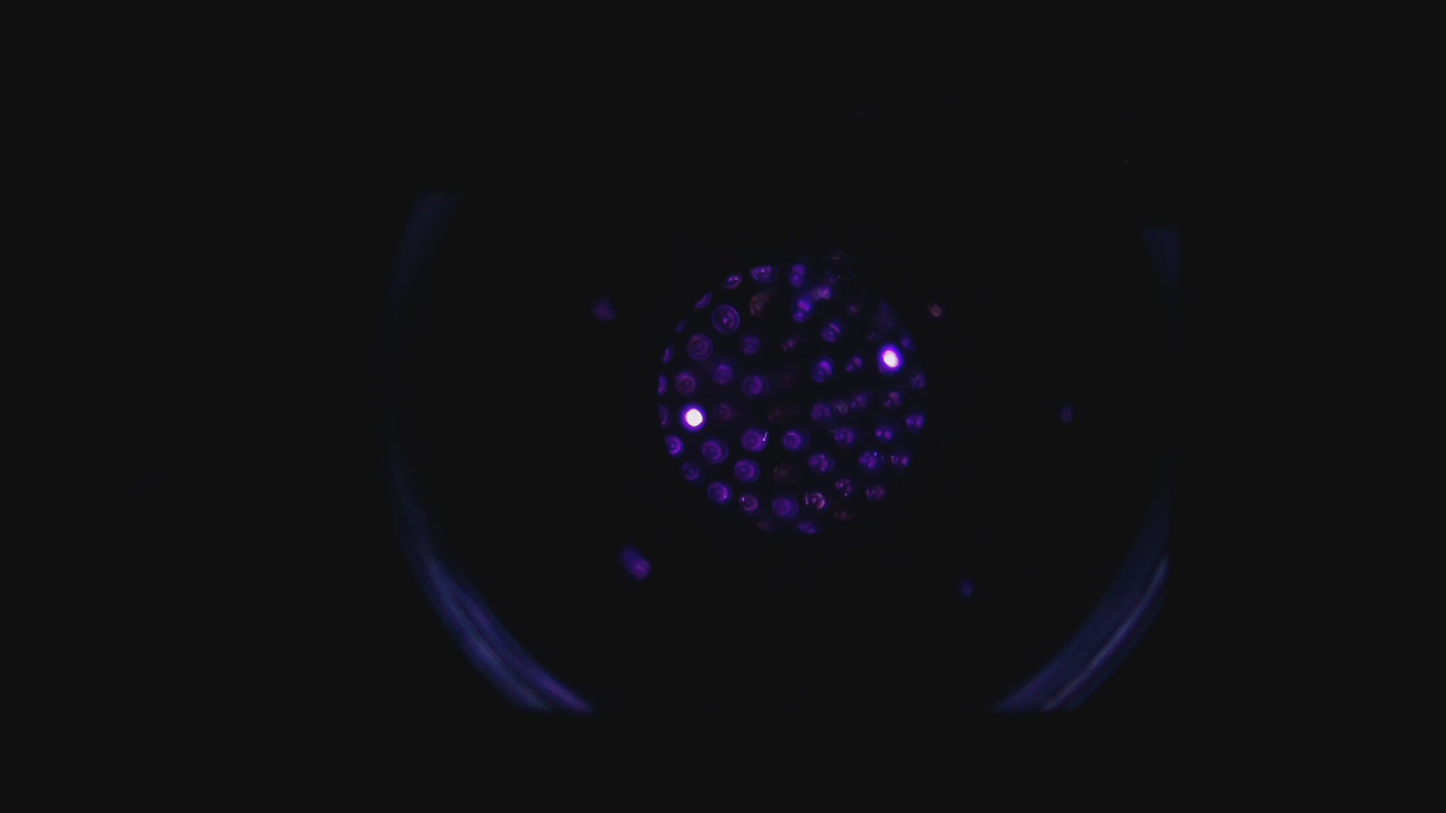plastic: (683, 406, 706, 429), (880, 347, 902, 371)
